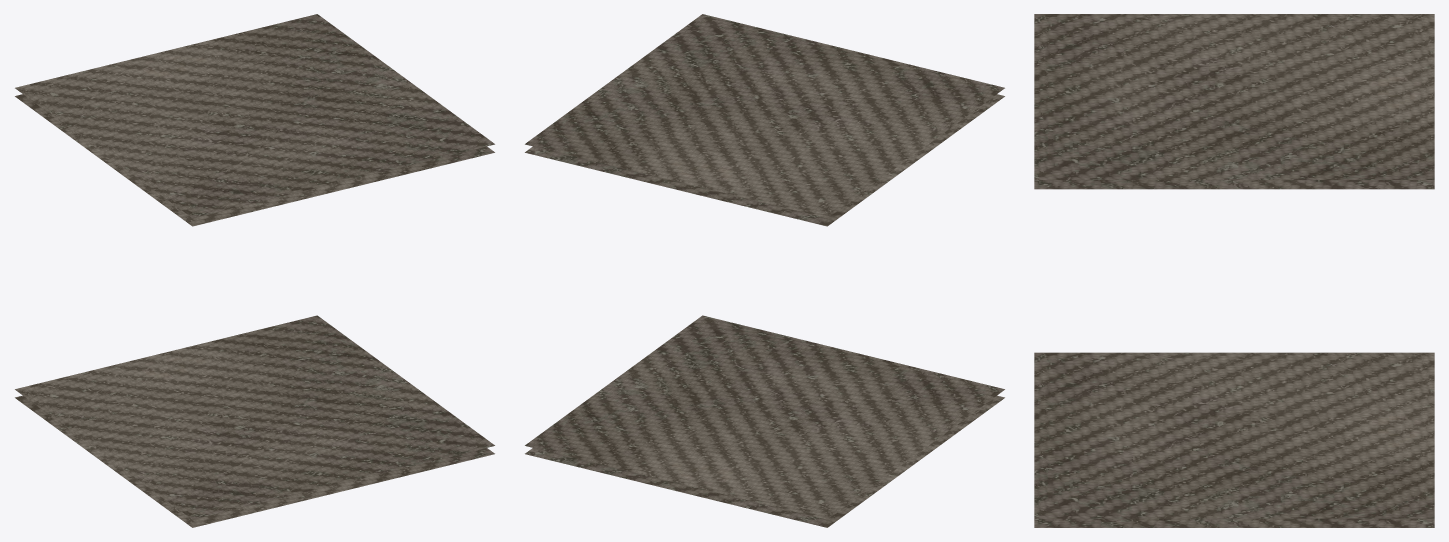
File: floor_Lounge_Cafe.fbx
The picture shows the model from 3 angles, left to right: view 1: azimuth 30°, elevation 25°; view 2: azimuth 150°, elevation 25°; view 3: azimuth 270°, elevation 25°; orthographic projection. The views are drawn at different scales.
Visible parts, largest first — view 1: floor_Lounge/Cafeteria; view 2: floor_Lounge/Cafeteria; view 3: floor_Lounge/Cafeteria.
Part boxes in pixels (<box>): floor_Lounge/Cafeteria: <box>15,14,494,527</box>; floor_Lounge/Cafeteria: <box>525,14,1004,527</box>; floor_Lounge/Cafeteria: <box>1034,14,1434,527</box>.
Size of the model in its own units: 767 by 749 by 781.
Materials: 1 (1 with a texture image).
